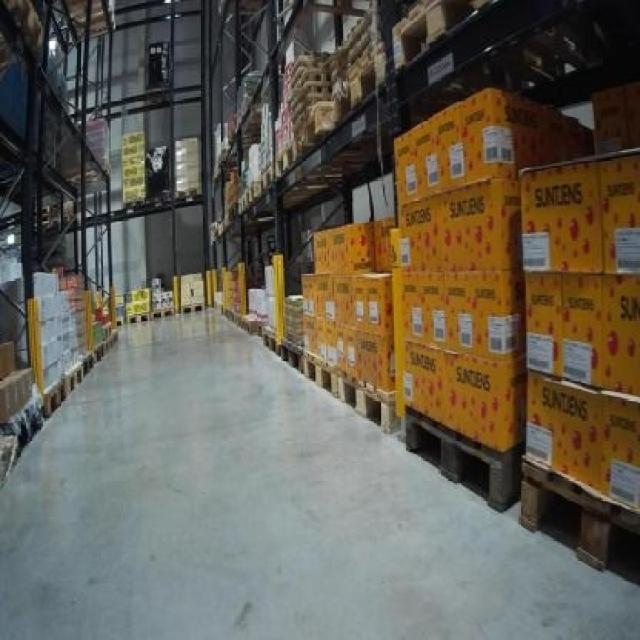floor: (0, 309, 637, 637)
pallets: (391, 89, 637, 503), (302, 225, 351, 363)
